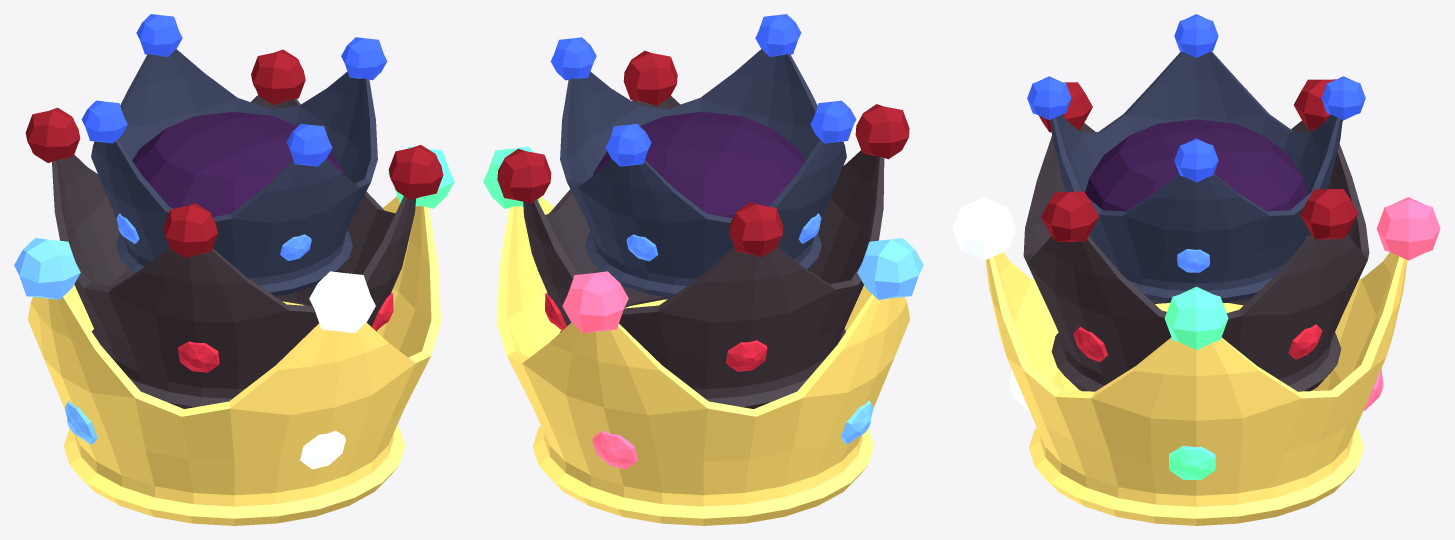
The model's file is Cosmetic_KingCrown.glb.
3 views of the same model, side by side, from view 1: azimuth 30°, elevation 25°; view 2: azimuth 150°, elevation 25°; view 3: azimuth 270°, elevation 25° (orthographic).
Parts seen in each view (by area): view 1: GC_KingCrown; view 2: GC_KingCrown; view 3: GC_KingCrown.
Boxes of the visible parts, x1,y1,x2,y2 form: GC_KingCrown: (14, 14, 454, 525); GC_KingCrown: (483, 14, 923, 525); GC_KingCrown: (952, 14, 1440, 525).
Bounding box in the file's own units: 0.5497 × 0.4729 × 0.5497.
